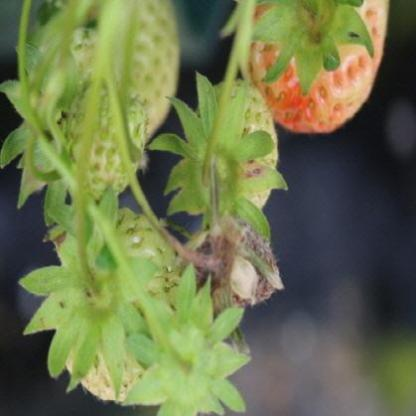Strawberry_Gray_Mold: (164, 220, 286, 320)
